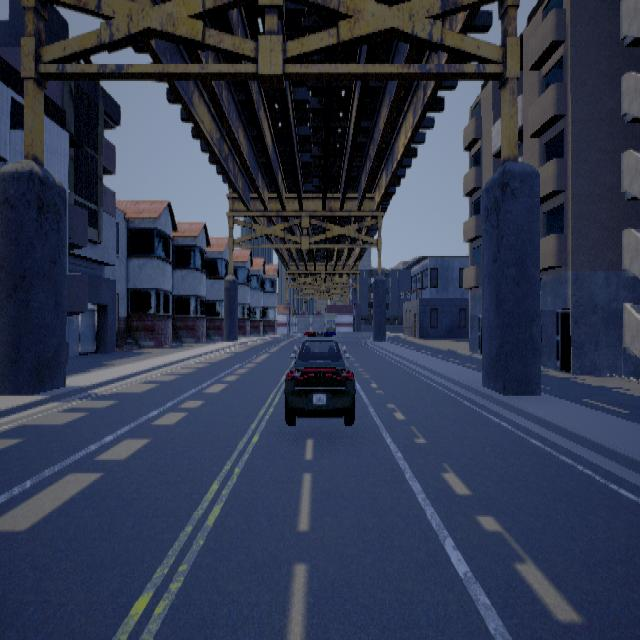vehicle: (283, 330, 355, 425)
